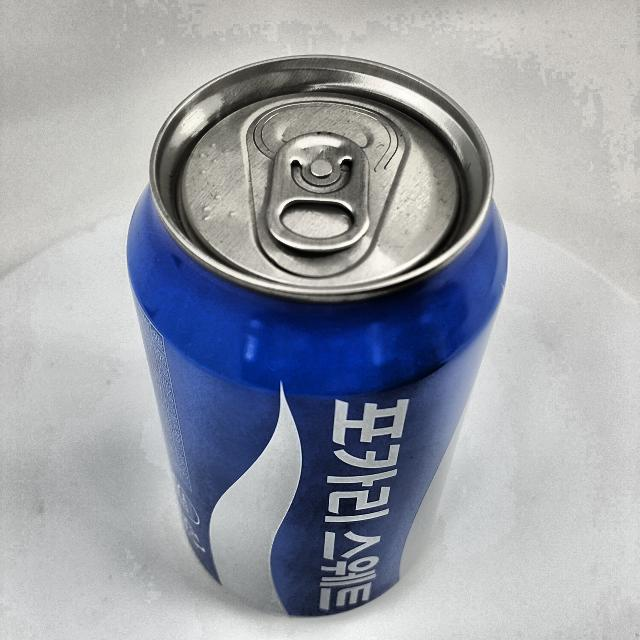pocarisweat: (128, 56, 508, 616)
